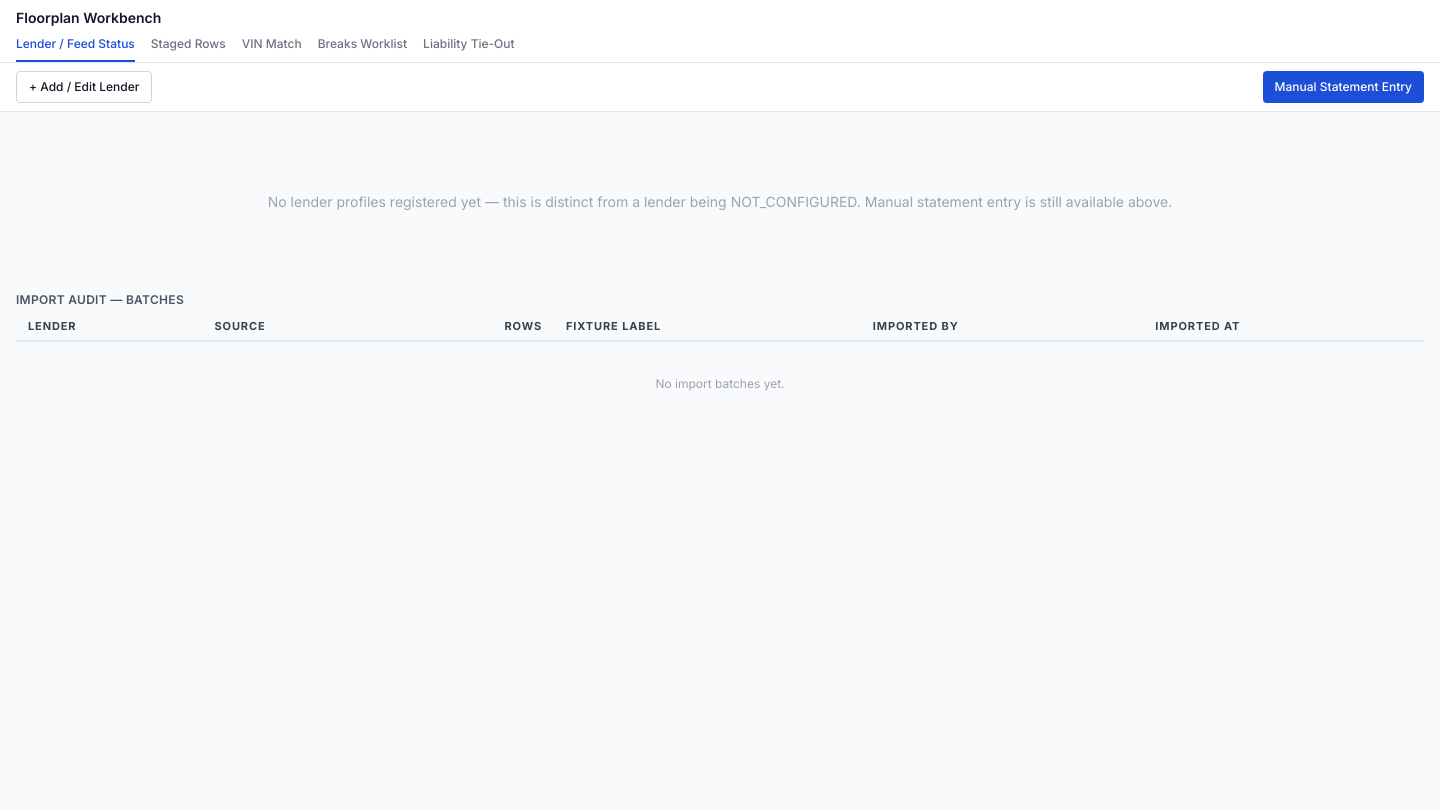
FloorplanWorkbench — VIN Match journal drill-down › drills into the real coa-service journal from a posted match row
Click the button with test id "vin-match-tab-button": click(272, 49) [242,36,302,62]
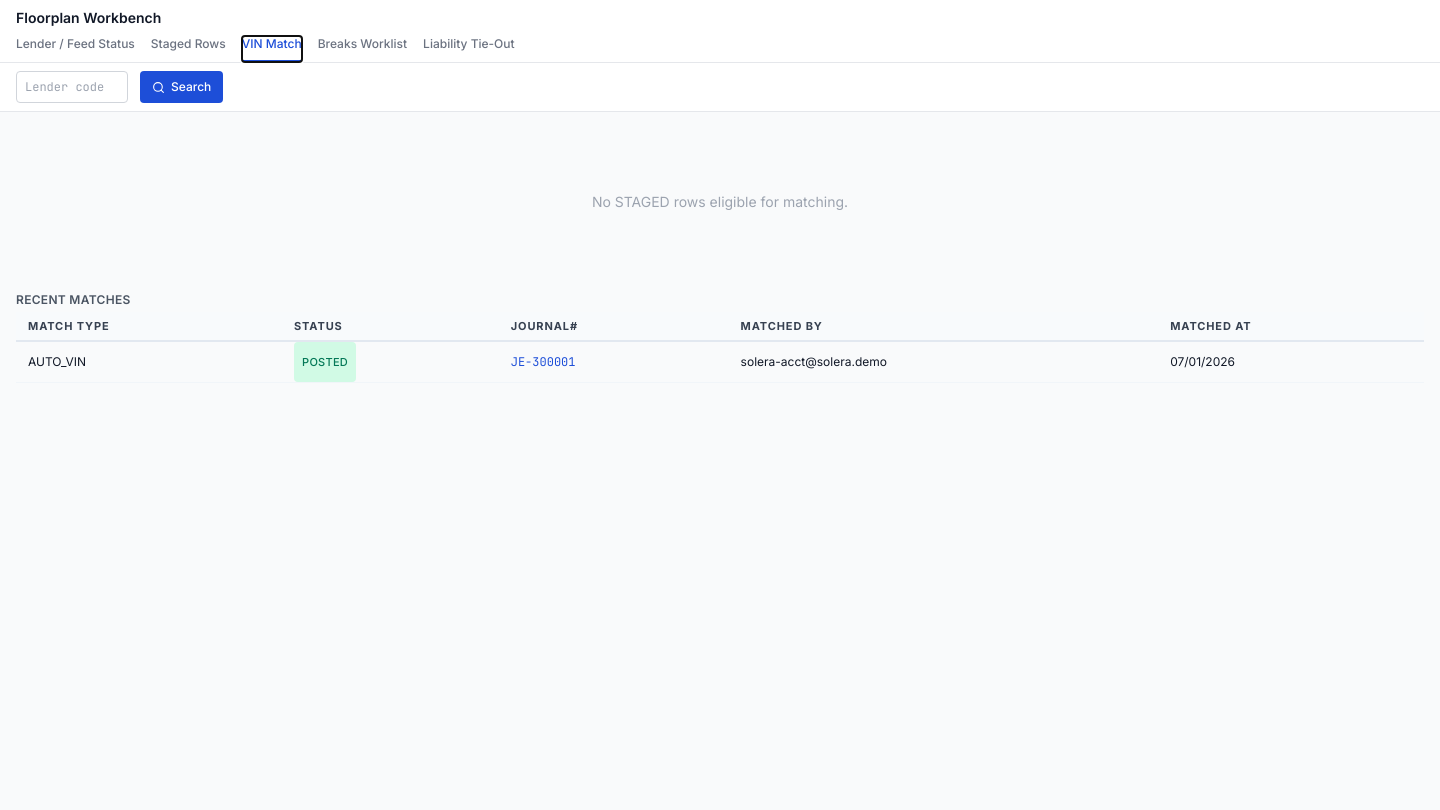
Click the button with test id "journal-drill-link-match-1": click(543, 362) [511,344,576,380]
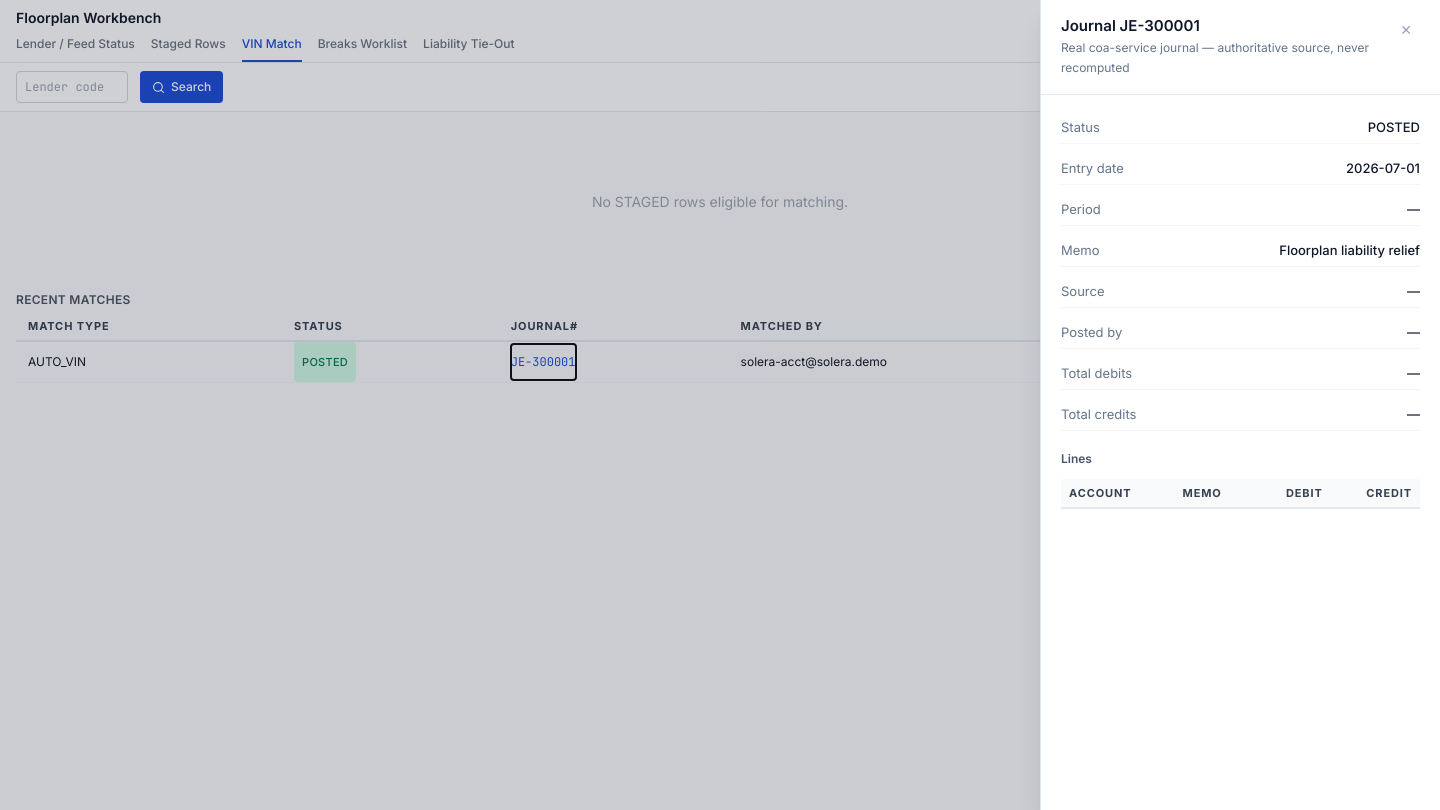
expect the dialog with test id "ce12-journal-drill-drawer" is shown: met, box [1040,0,1439,809]
